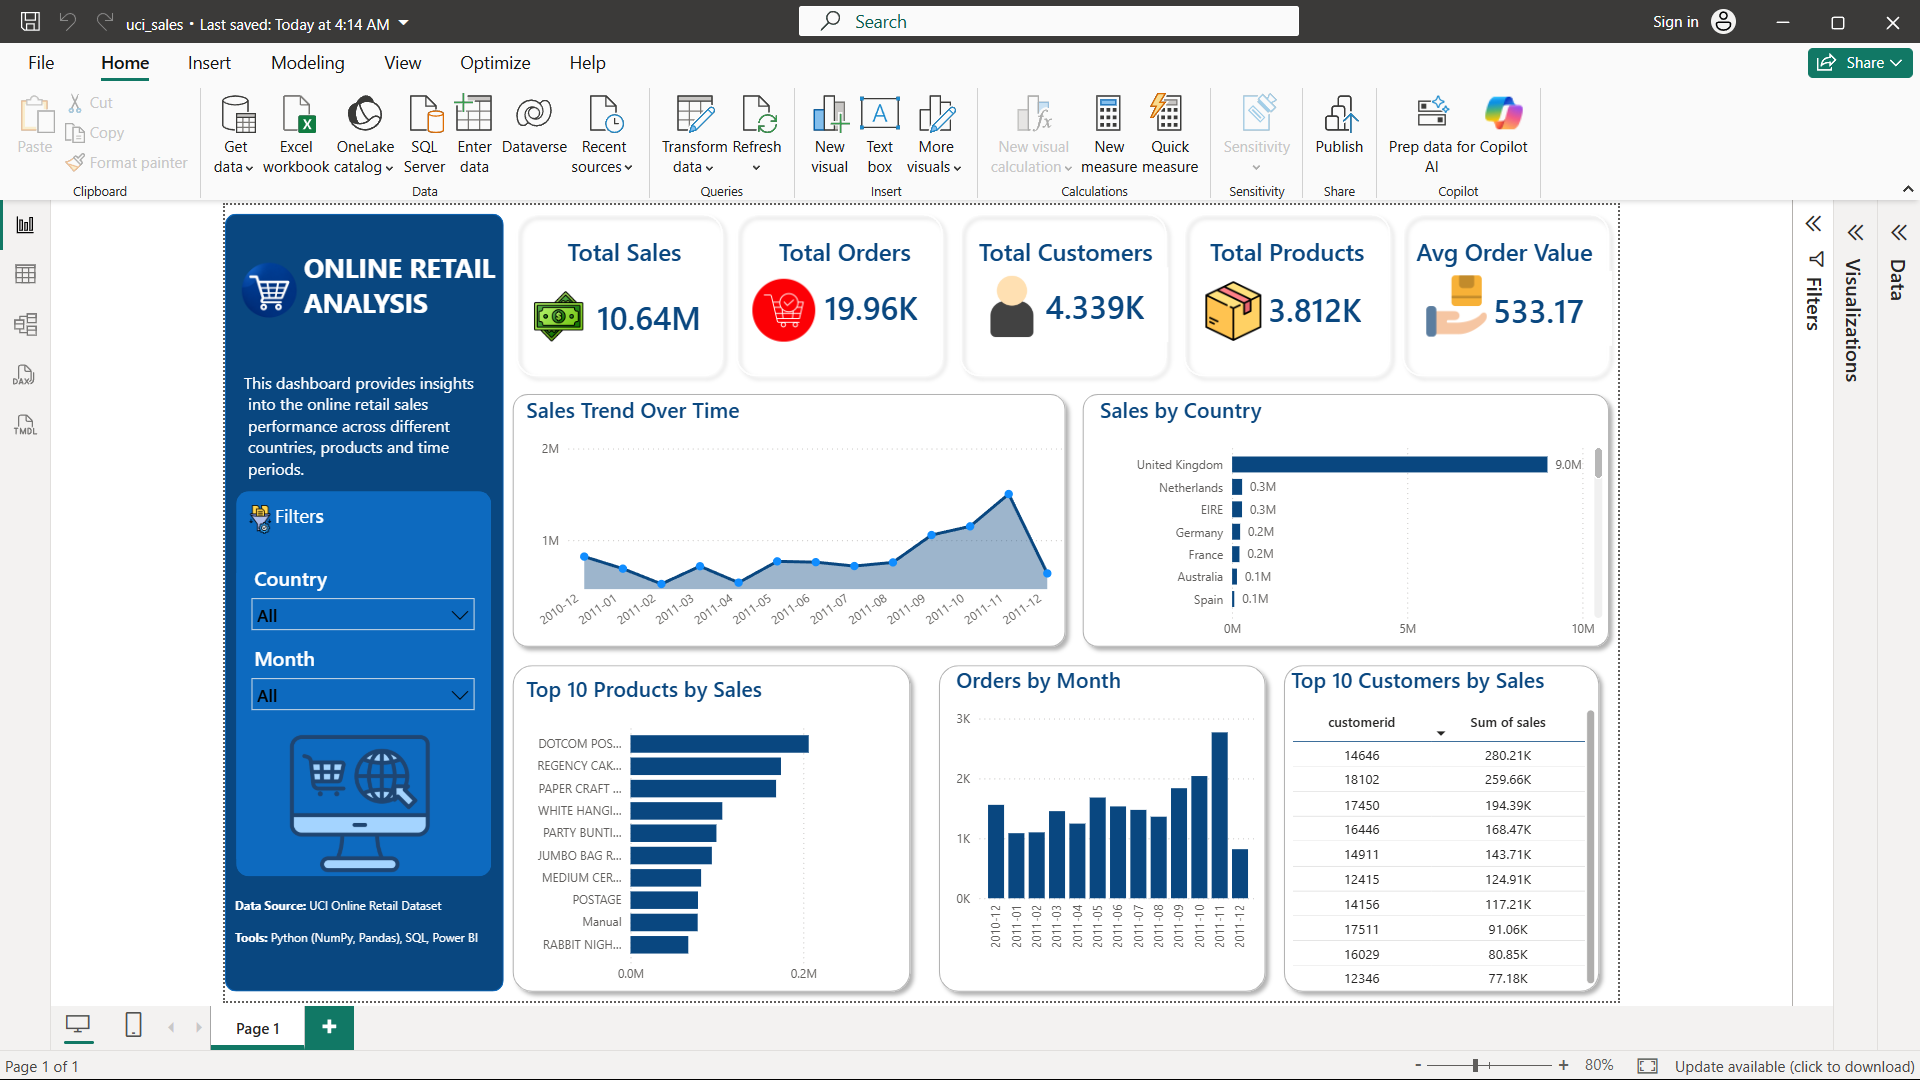

The dashboard page shown, as its layout file describes it:
{"tool":"powerbi","page":{"name":"Page 1","canvas":[1400,800],"ordinal":0},"visuals":[{"type":"shape","box":[0,8.9,280.1,781.6],"z":0},{"type":"textbox","box":[73.9,40,206.2,121.6],"z":1000},{"type":"image","box":[0,40,89.3,92.3],"z":2000},{"type":"textbox","box":[13.8,161.6,266.2,146.2],"z":3000},{"type":"cardVisual","title":"Total Sales","fields":{"Data":["Sum(public online_retail.sales)"]},"box":[342.7,69.1,166.2,85.3],"z":4000},{"type":"textbox","box":[297.1,26.5,207.4,60.3],"z":5000},{"type":"cardVisual","title":"Total Sales","fields":{"Data":["Count(public online_retail.invoiceno)"]},"box":[570.7,58.8,158.9,85.3],"z":6000},{"type":"shape","box":[283.9,0,225,180.9],"z":7000},{"type":"image","box":[297.1,86.8,75,50],"z":8000},{"type":"shape","box":[504.5,0,225,180.9],"z":9000},{"type":"shape","box":[729.6,0,225,180.9],"z":10000},{"type":"shape","box":[954.6,0,225,180.9],"z":11000},{"type":"shape","box":[1175.3,0,225,180.9],"z":12000},{"type":"textbox","box":[551.6,26.5,178,60.3],"z":13000},{"type":"image","box":[519.2,73.5,85.3,63.2],"z":14000},{"type":"cardVisual","title":"Total Sales","fields":{"Data":["Count(public online_retail.customerid)"]},"box":[795.8,57.4,158.9,85.3],"z":15000},{"type":"textbox","box":[753.1,26.5,201.5,60.3],"z":16000},{"type":"image","box":[753.1,61.8,76.5,80.9],"z":17000},{"type":"cardVisual","title":"Total Sales","fields":{"Data":["Count(public online_retail.stockcode)"]},"box":[1016.4,60.3,158.9,85.3],"z":18000},{"type":"textbox","box":[985.5,26.5,189.7,47.1],"z":19000},{"type":"image","box":[969.3,76.5,86.8,60.3],"z":20000},{"type":"cardVisual","title":"Total Sales","fields":{"Data":["public online_retail.Average_order_value"]},"box":[1241.3,61,159,85.2],"z":21000},{"type":"textbox","box":[1191.7,26.7,190.8,50.9],"z":22000},{"type":"image","box":[1206.9,68.7,61,64.9],"z":23000},{"type":"shape","box":[279.8,180.6,573.6,272.2],"z":24000},{"type":"lineChart","title":"Sales Trend Over Time","fields":{"Category":["public online_retail.month"],"Y":["Sum(public online_retail.sales)"]},"box":[297.6,190.8,549.4,253.1],"z":25000},{"type":"shape","box":[853.4,180.6,546.9,272.2],"z":26000},{"type":"clusteredBarChart","title":"Sales by Country","fields":{"Category":["public online_retail.country"],"Y":["Sum(public online_retail.sales)"]},"box":[875,190.8,515.1,253.1],"z":27000},{"type":"shape","box":[280.1,453.2,417.5,346.2],"z":28000},{"type":"clusteredBarChart","title":"Top 10 Products by Sales","fields":{"Category":["public online_retail.description"],"Y":["Sum(public online_retail.sales)"]},"box":[297.9,471,389.5,319.5],"z":29000},{"type":"shape","box":[709,453.2,346.2,346.2],"z":30000},{"type":"shape","box":[1055.3,453.2,334.8,346.2],"z":31000},{"type":"clusteredColumnChart","title":"Orders by Month","fields":{"Category":["public online_retail.month"],"Y":["Count(public online_retail.invoiceno)"]},"box":[729.4,462.1,311.9,300.4],"z":32000},{"type":"tableEx","title":"Top 10 Customers by Sales","fields":{"Values":["public online_retail.customerid","Sum(public online_retail.sales)"]},"box":[1066.7,462.1,315.7,328.4],"z":33000},{"type":"shape","box":[11.3,287.7,256.3,386.9],"z":33001},{"type":"slicer","fields":{"Values":["public online_retail.country"]},"box":[16.3,356.8,244.4,86.6],"z":33002},{"type":"slicer","fields":{"Values":["public online_retail.month"]},"box":[16.3,437.2,244.4,86.6],"z":33003},{"type":"image","box":[25.1,528.9,221.1,145.7],"z":33004},{"type":"image","box":[16.3,301.5,37.7,28.9],"z":33005},{"type":"textbox","box":[45.2,295.2,76.6,41.5],"z":33006},{"type":"textbox","box":[5,689.7,299,31.4],"z":33007},{"type":"textbox","box":[5,721.1,283.9,41.5],"z":33008}]}

Visuals, with their boxes on the page's 1400x800 design canvas (x1, y1, x2, y2). These are canvas units, not pixel positions in the 1920x1080 screenshot, which may show the page scaled, cropped or inside an application window:
shape: 0 9 280 790
textbox: 74 40 280 162
image: 0 40 89 132
textbox: 14 162 280 308
"Total Sales" cardVisual: 343 69 509 154
textbox: 297 26 504 87
"Total Sales" cardVisual: 571 59 730 144
shape: 284 0 509 181
image: 297 87 372 137
shape: 504 0 730 181
shape: 730 0 955 181
shape: 955 0 1180 181
shape: 1175 0 1400 181
textbox: 552 26 730 87
image: 519 74 604 137
"Total Sales" cardVisual: 796 57 955 143
textbox: 753 26 955 87
image: 753 62 830 143
"Total Sales" cardVisual: 1016 60 1175 146
textbox: 986 26 1175 74
image: 969 76 1056 137
"Total Sales" cardVisual: 1241 61 1400 146
textbox: 1192 27 1382 78
image: 1207 69 1268 134
shape: 280 181 853 453
"Sales Trend Over Time" lineChart: 298 191 847 444
shape: 853 181 1400 453
"Sales by Country" clusteredBarChart: 875 191 1390 444
shape: 280 453 698 799
"Top 10 Products by Sales" clusteredBarChart: 298 471 687 790
shape: 709 453 1055 799
shape: 1055 453 1390 799
"Orders by Month" clusteredColumnChart: 729 462 1041 762
"Top 10 Customers by Sales" tableEx: 1067 462 1382 790
shape: 11 288 268 675
slicer - public online_retail.country: 16 357 261 443
slicer - public online_retail.month: 16 437 261 524
image: 25 529 246 675
image: 16 302 54 330
textbox: 45 295 122 337
textbox: 5 690 304 721
textbox: 5 721 289 763
